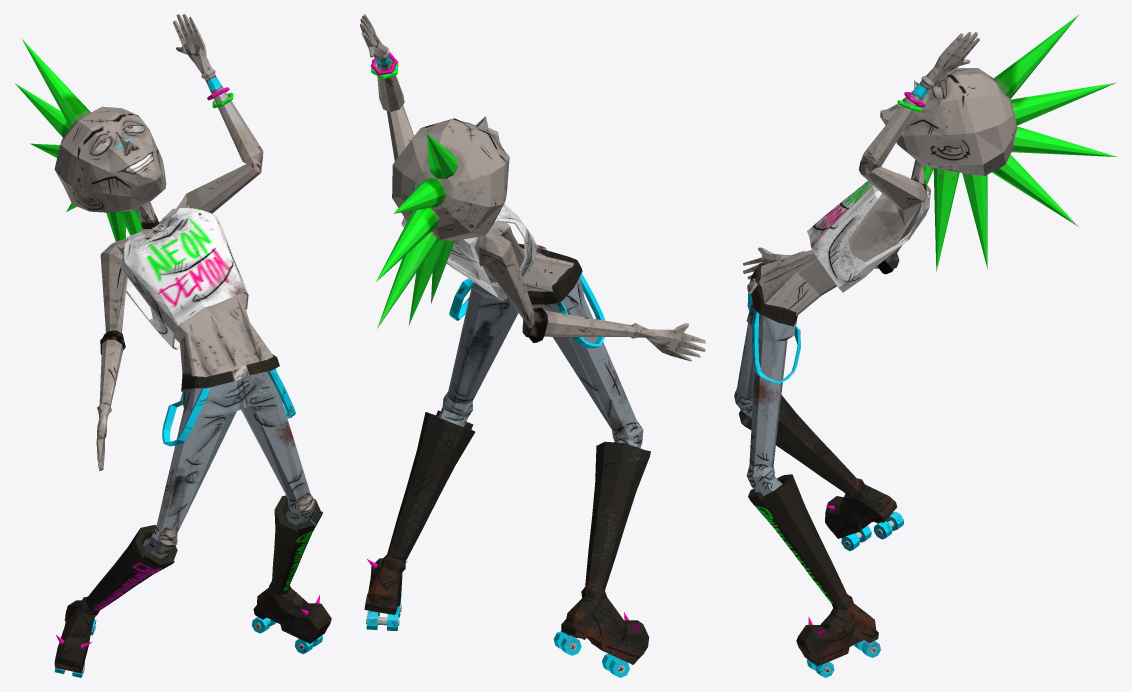
Rendered from punkAnimation_000111.obj.
3 renders of one model, left to right at view 1: azimuth 30°, elevation 25°; view 2: azimuth 150°, elevation 25°; view 3: azimuth 270°, elevation 25°, orthographic. The views are drawn at different scales.
Visible parts, largest first — view 1: Cube.004_Cube.003; view 2: Cube.004_Cube.003; view 3: Cube.004_Cube.003.
Boxes of the visible parts, box(x1,y1,x2,y2) form: Cube.004_Cube.003: box(15, 14, 331, 677); Cube.004_Cube.003: box(360, 14, 705, 677); Cube.004_Cube.003: box(734, 15, 1116, 677).
Size of the model in its own units: 2.96 by 6.36 by 3.6.
